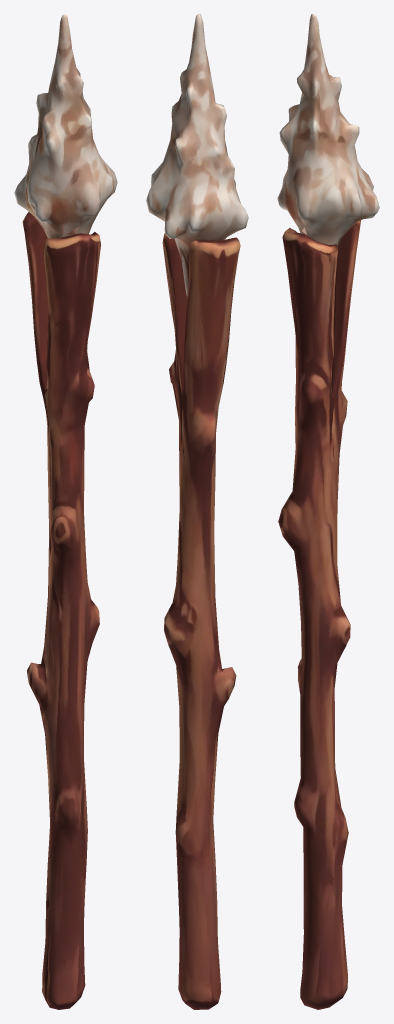
The model's file is spear.glb.
The picture shows the model from 3 angles, left to right: view 1: azimuth 30°, elevation 25°; view 2: azimuth 210°, elevation 25°; view 3: azimuth 330°, elevation 25°; orthographic projection.
Visible parts, largest first — view 1: geometry_0; view 2: geometry_0; view 3: geometry_0.
Part boxes in pixels (x1,y1,x2,y2): geometry_0: (14,14,117,1009); geometry_0: (146,14,248,1009); geometry_0: (277,14,379,1009).
Size of the model in its own units: 0.0855 by 1 by 0.0926.
1 material, 1 textured.
